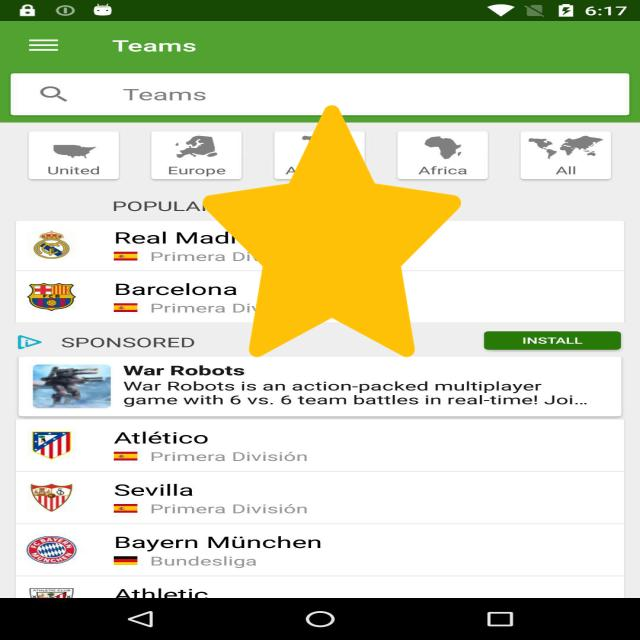forced continuity: (203, 105, 461, 357)
